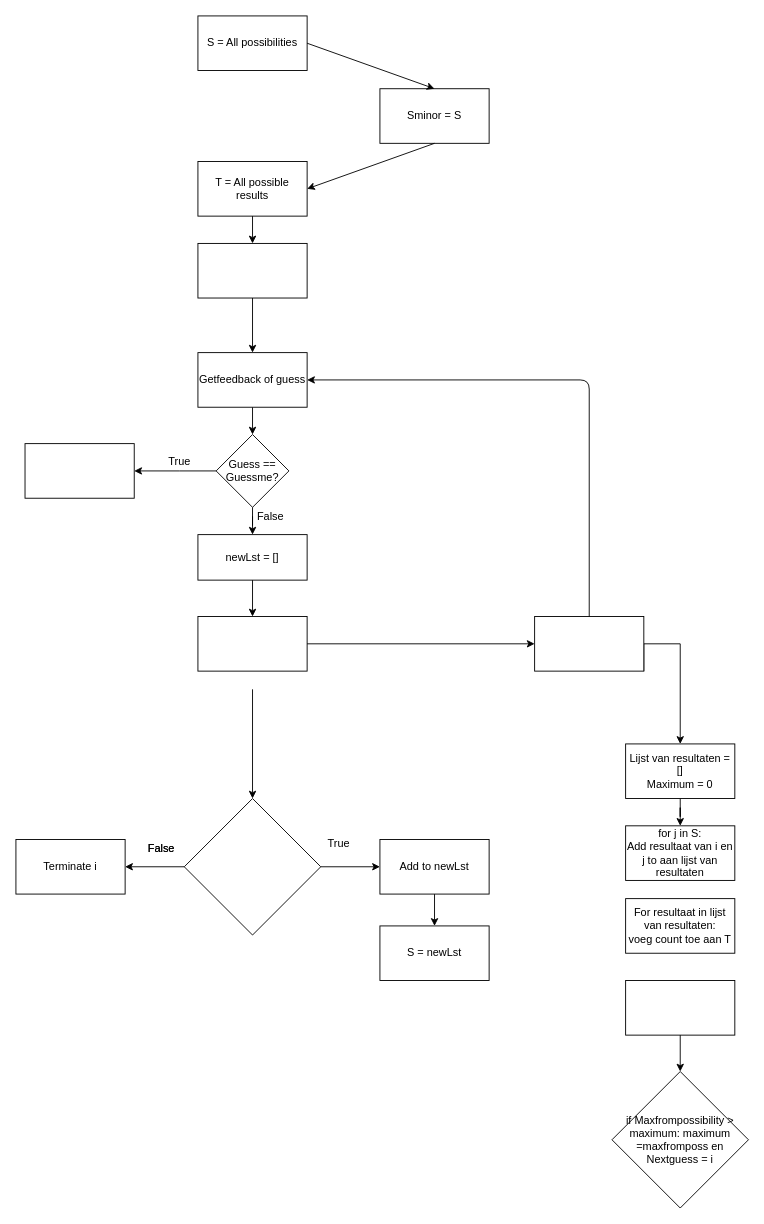
The diagram is 764 pixels wide and 1224 high, and some of its shapes have lost their labels. Each missing label, with the centre of its shape:
DONE: the point at 79,470
For i in S: getFeedback of i: the point at 252,643
For i in S: If feedback of guess == feedback of i:: the point at 252,866
for i in Sminor:: the point at 589,643
Guess 1 = AABB: the point at 252,270
Maxfrompossibility = len(S_minor) - max(T): the point at 680,1007
